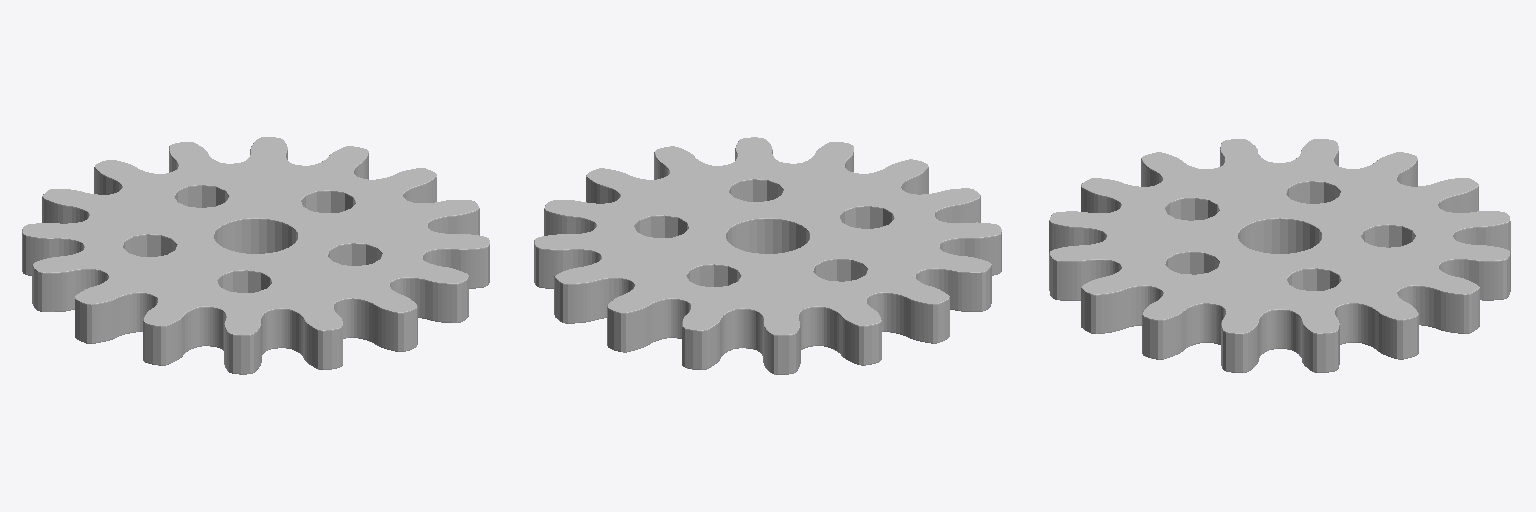
Rendered from gear.obj.
3 views of the same model, side by side, from view 1: azimuth 30°, elevation 25°; view 2: azimuth 150°, elevation 25°; view 3: azimuth 270°, elevation 25° (orthographic).
Parts seen in each view (by area): view 1: Line013; view 2: Line013; view 3: Line013.
Boxes of the visible parts, x1=… form: Line013: x1=22, y1=137, x2=489, y2=374; Line013: x1=534, y1=137, x2=1001, y2=374; Line013: x1=1049, y1=139, x2=1510, y2=372.
Size of the model in its own units: 16.05 by 1.53 by 16.05.